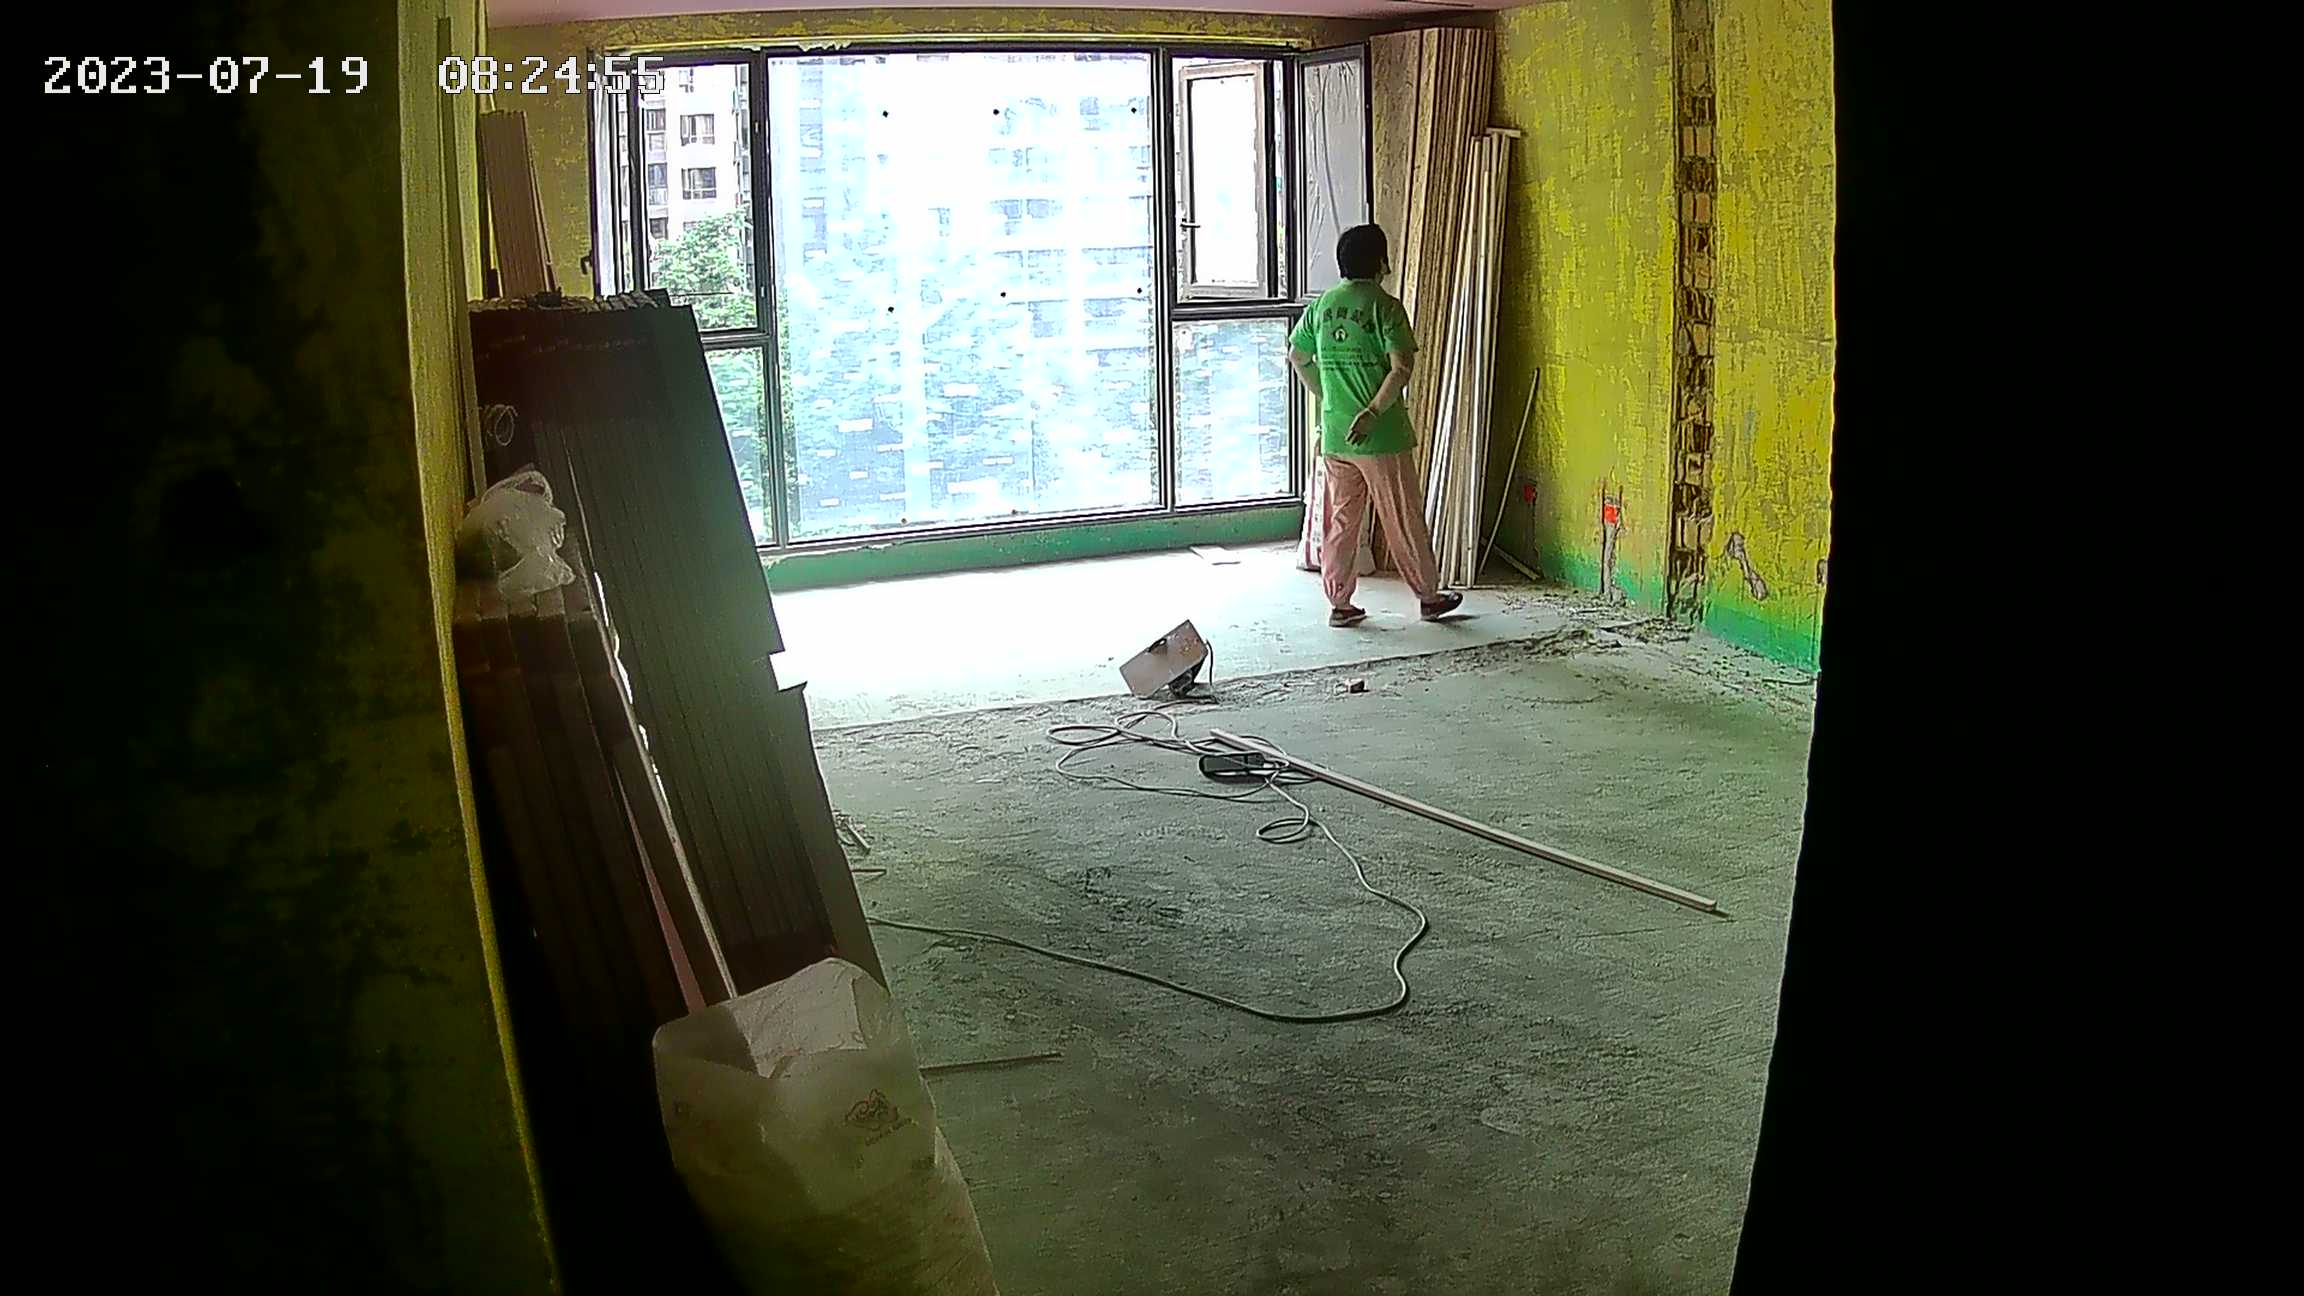people: (1288, 225, 1473, 626)
window: (594, 53, 1329, 532)
